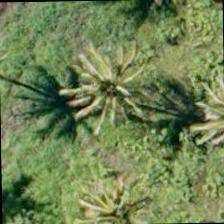Kelapa_Sawit: (60, 45, 152, 137), (67, 174, 159, 223)
